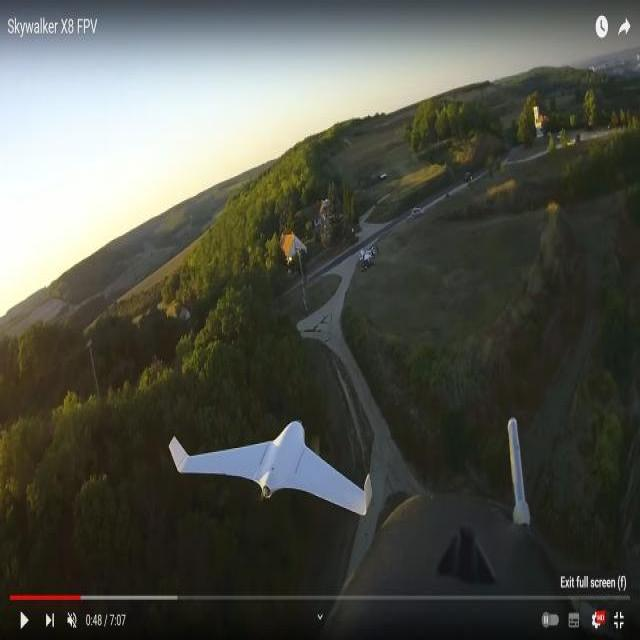UAV: (183, 408, 363, 514)
